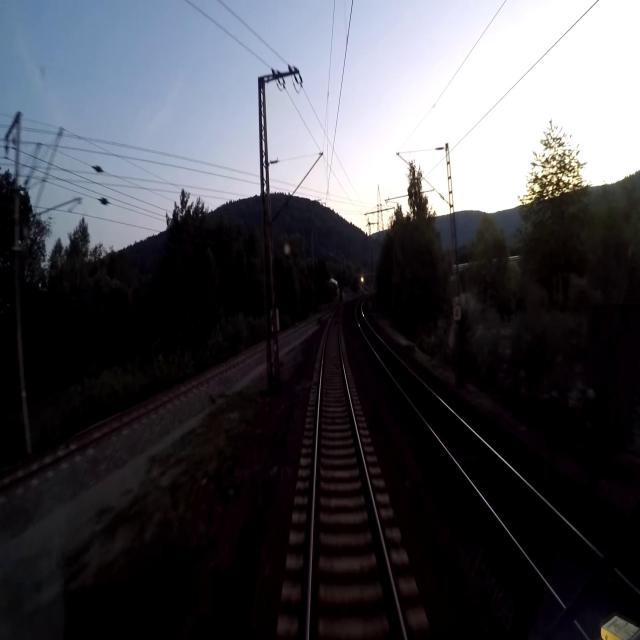rail-track: (357, 302, 595, 588), (311, 309, 403, 639)
